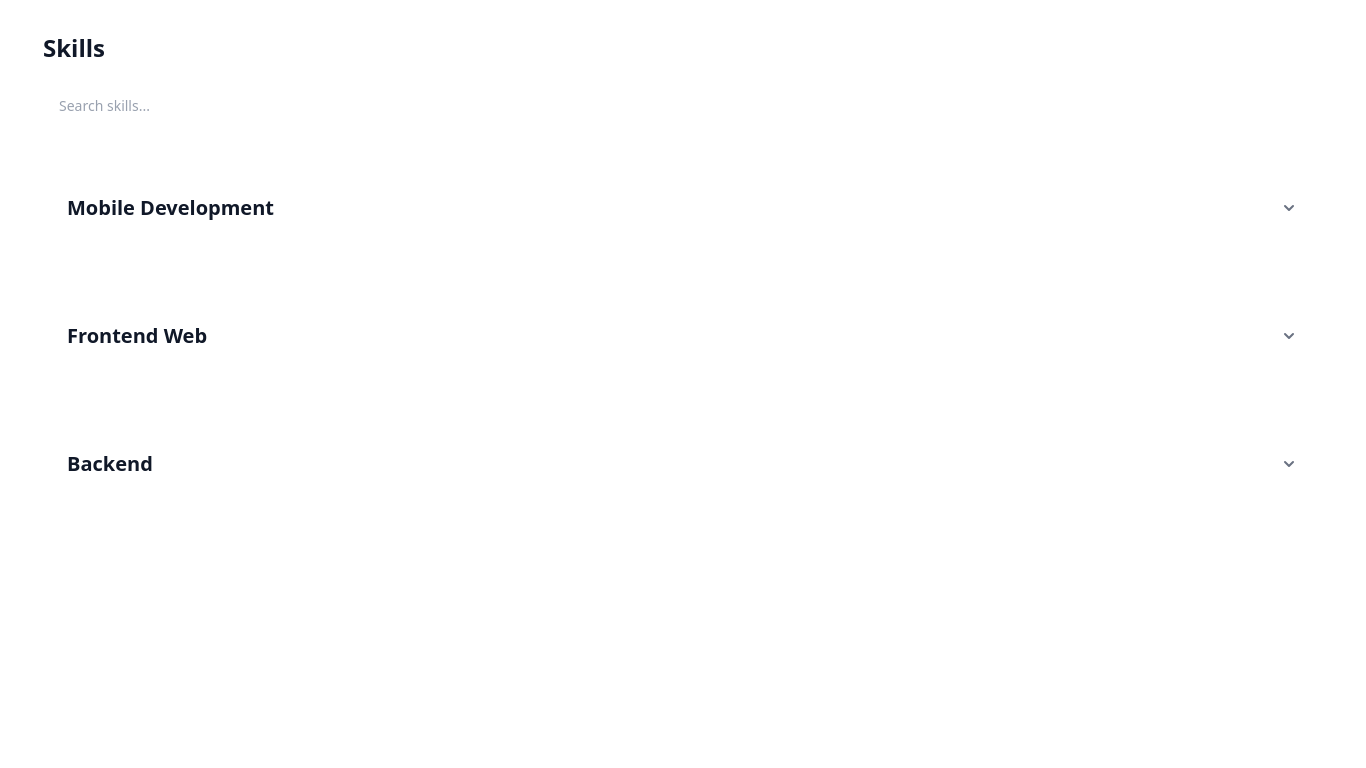
Test: SkillsSection Component › renders skill level indicators when the card is expanded
The image size is (1366, 768).
Expand the first card (Mobile Development)
Click the button "Mobile Development" at x=170, y=208, box [67, 180, 1299, 236]
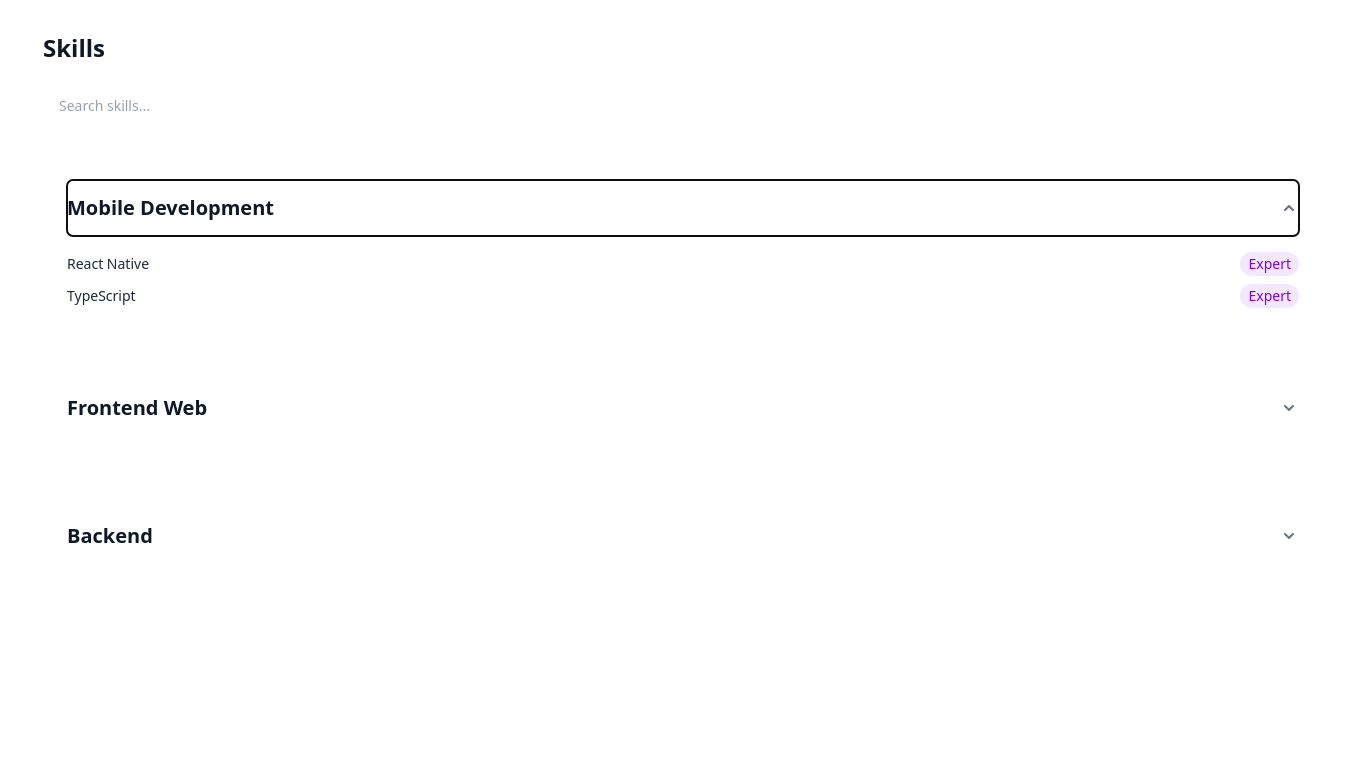
Expected: the text "Expert" in the row of "React Native" is shown, [1248, 254, 1291, 273]
Cards toggle independently — open Backend to reveal "Intermediate".
Click the button "Backend" at x=110, y=536, box [67, 508, 1299, 564]
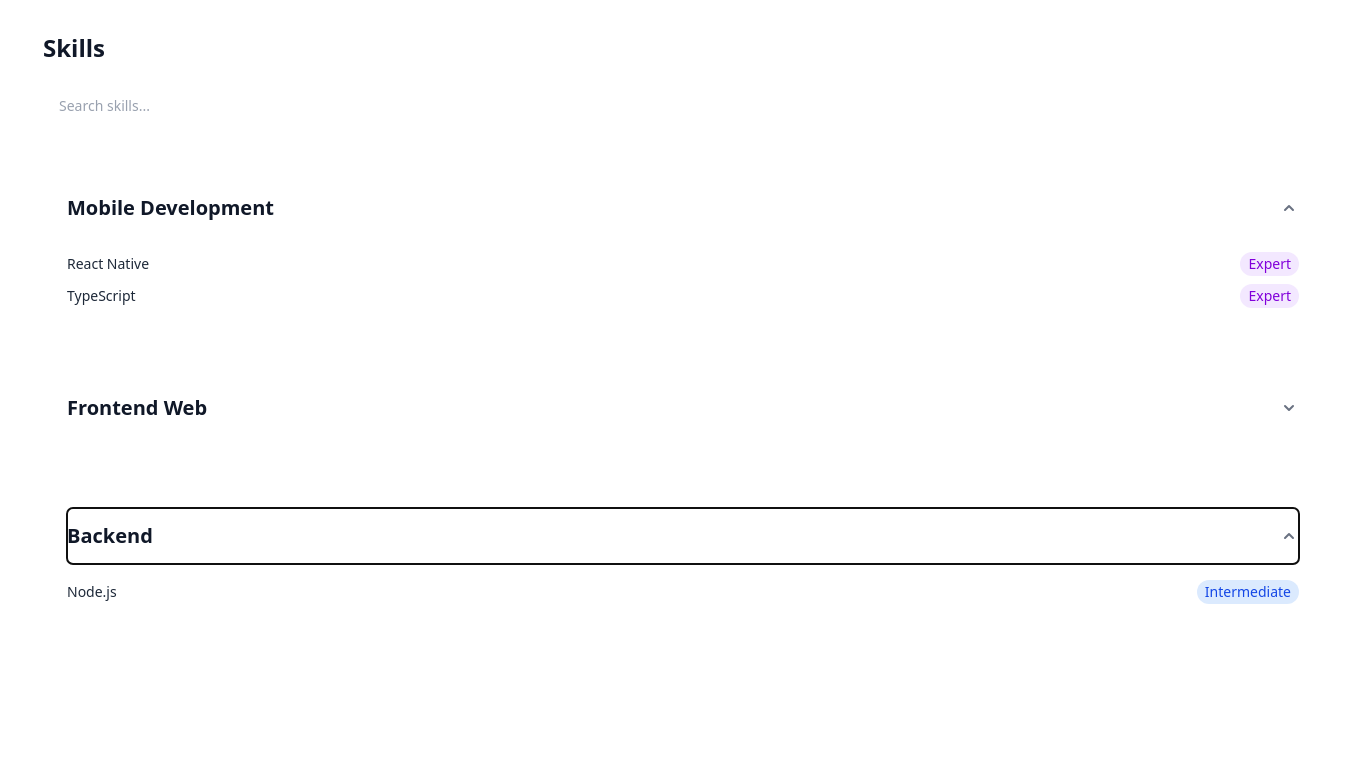
Expected: the text "Intermediate" is shown, [1197, 580, 1299, 604]
